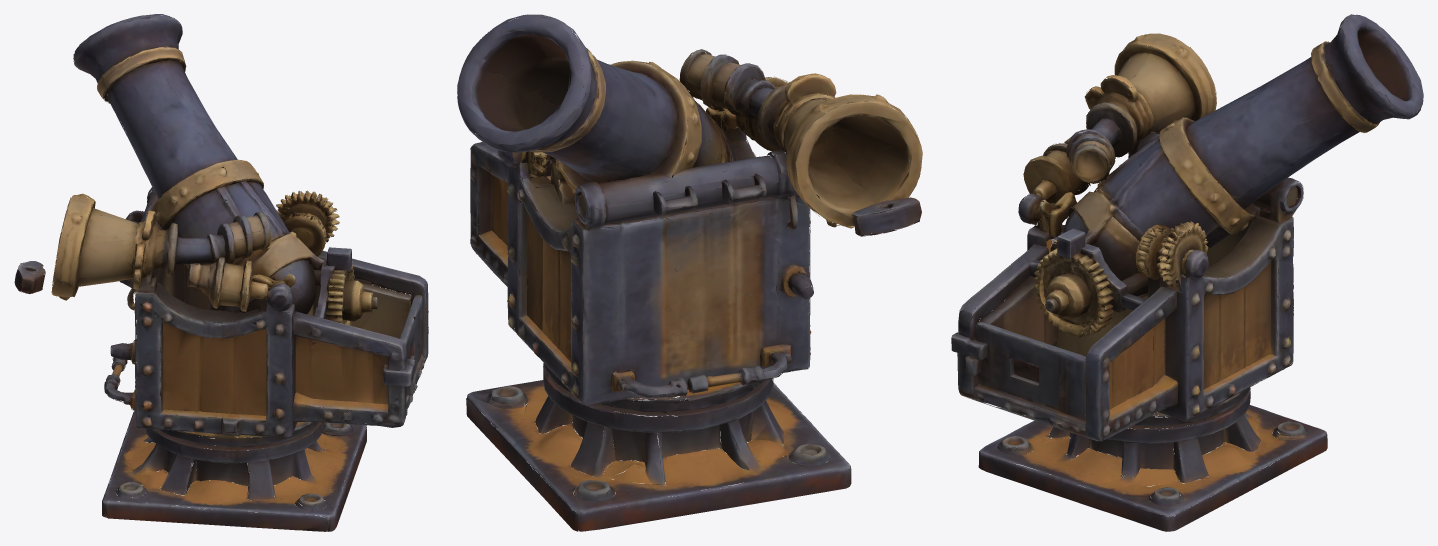
Rendered from cf_harvest_mortar.glb.
3 renders of one model, left to right at view 1: azimuth 30°, elevation 25°; view 2: azimuth 150°, elevation 25°; view 3: azimuth 270°, elevation 25°, orthographic. The views are drawn at different scales.
Visible parts, largest first — view 1: head, base, gun; view 2: head, base, gun; view 3: head, gun, base.
Boxes of the visible parts, <box> form: head: <box>14,159,428,437</box>; base: <box>102,410,366,531</box>; gun: <box>73,14,324,269</box>; head: <box>470,51,922,405</box>; base: <box>466,363,851,531</box>; gun: <box>457,14,721,181</box>; head: <box>951,33,1303,441</box>; gun: <box>1071,14,1423,240</box>; base: <box>978,387,1327,531</box>.
Size of the model in its own units: 1.89 by 1.9 by 1.87.
Materials: 1 (1 with a texture image).
